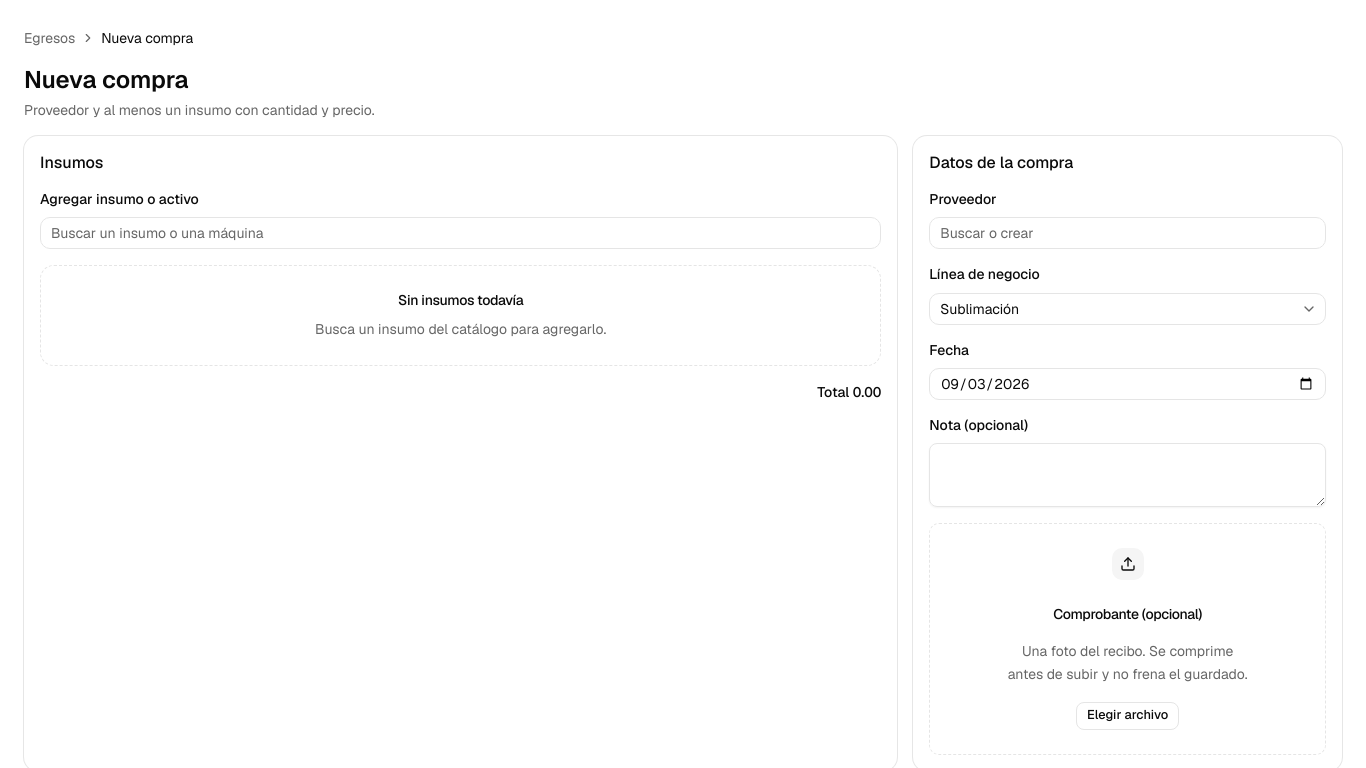
Scenario: PurchaseForm · comprar una máquina (KAM-19) › un ítem de tipo activo aparece en el selector, marcado como activo
Type "Impresora" into the field labelled "Agregar insumo o activo". click: (461, 233)
box: [40,217,881,249]
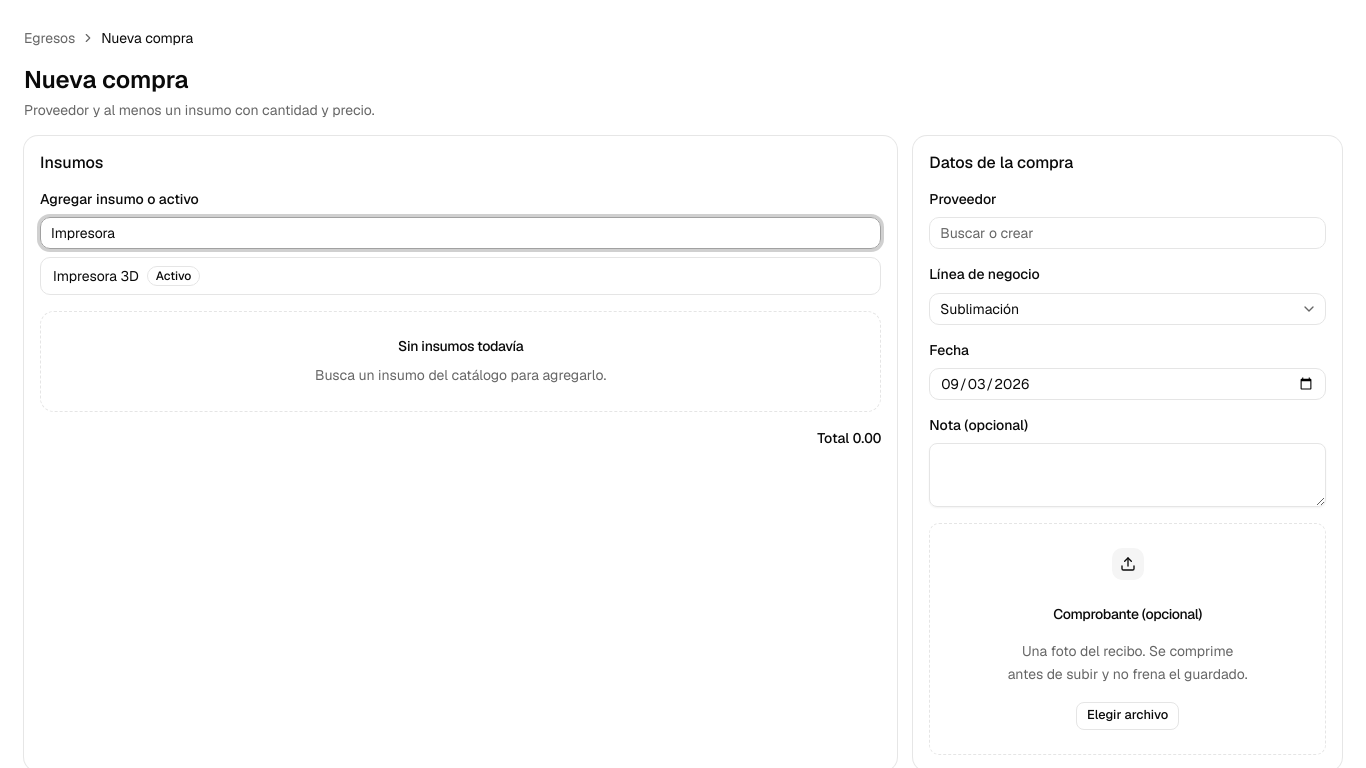
Expected: the text "Impresora 3D" is shown, [53,267,139,285]
Expected: the icon with test id "option-asset" reads "Activo", [156,268,191,284]
